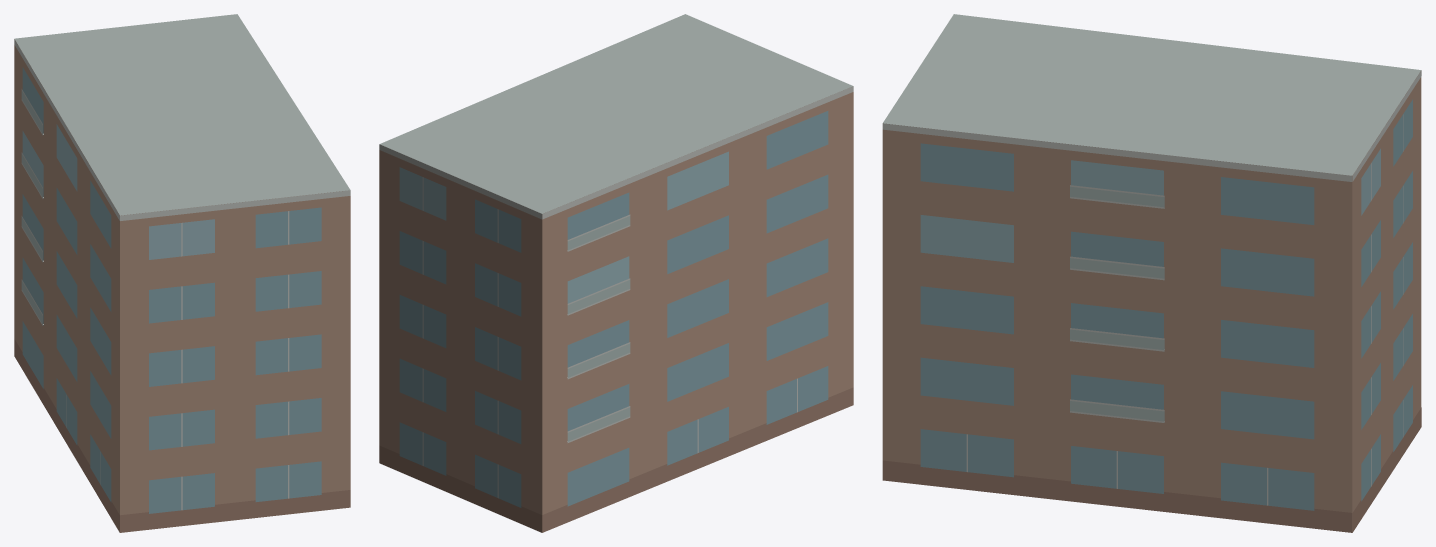
File: survey-upis-32909625.glb
3 views of the same model, side by side, from view 1: azimuth 30°, elevation 25°; view 2: azimuth 150°, elevation 25°; view 3: azimuth 270°, elevation 25° (orthographic). The views are drawn at different scales.
Parts seen in each view (by area): view 1: survey-upis-32909625.tmp; view 2: survey-upis-32909625.tmp; view 3: survey-upis-32909625.tmp.
Part boxes in pixels (<box>): survey-upis-32909625.tmp: <box>14,14,350,532</box>; survey-upis-32909625.tmp: <box>379,14,853,532</box>; survey-upis-32909625.tmp: <box>882,14,1421,532</box>.
Bounding box in the file's own units: 13.37 × 13.75 × 18.81.
